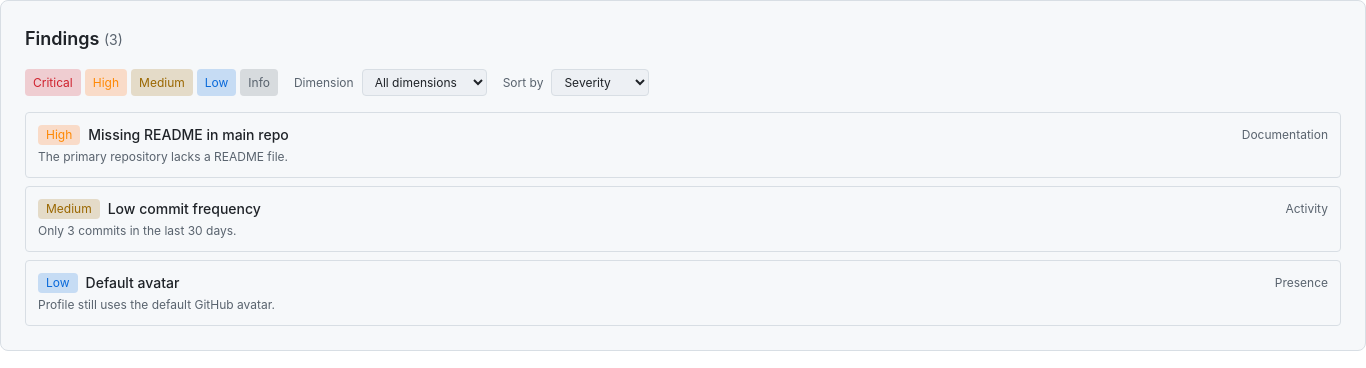
Test: FindingsList › filters by severity when toggled off
The width and height of the screenshot is (1366, 368).
Click the button "high".
click(106, 82)  # box [85,69,127,96]
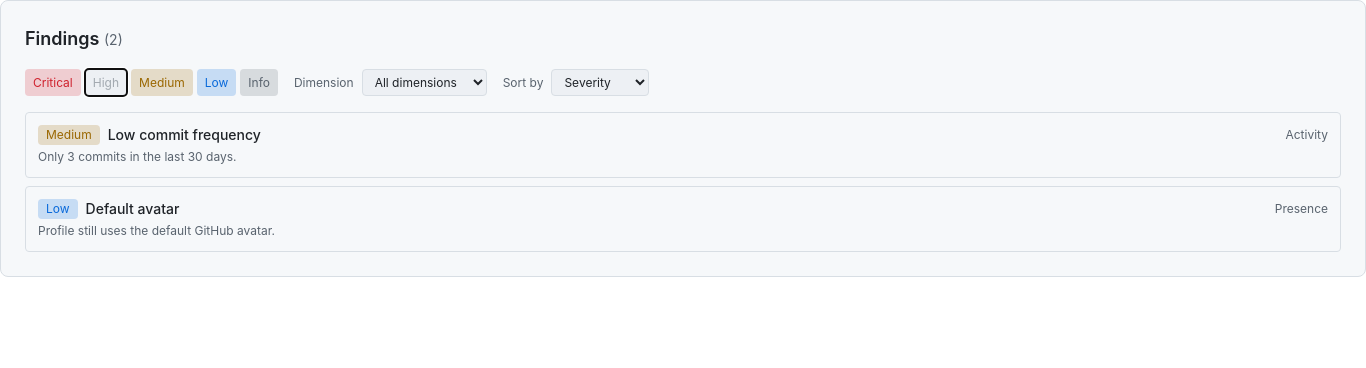
Result: the text "Missing README in main repo" is gone
Result: the text "(2)" is shown at [104,31,123,48]
